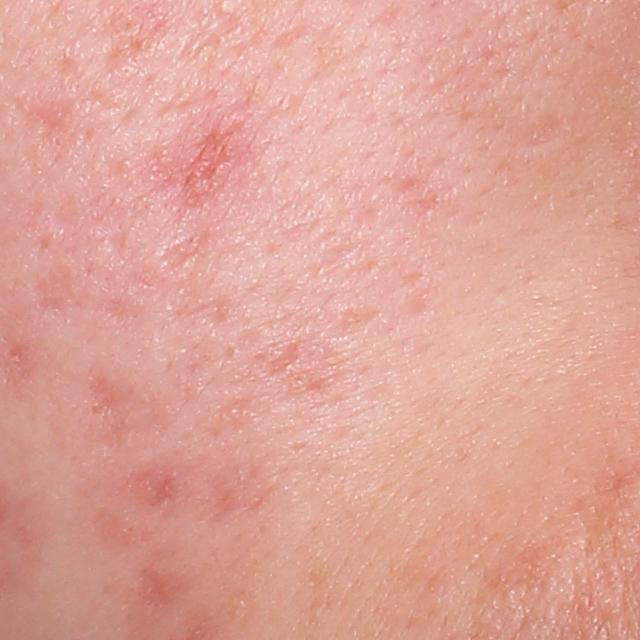atrophic_scar: (178, 113, 247, 194), (11, 97, 77, 159), (27, 257, 79, 319), (511, 112, 573, 155), (157, 229, 207, 278), (174, 293, 233, 329), (264, 340, 303, 383)
